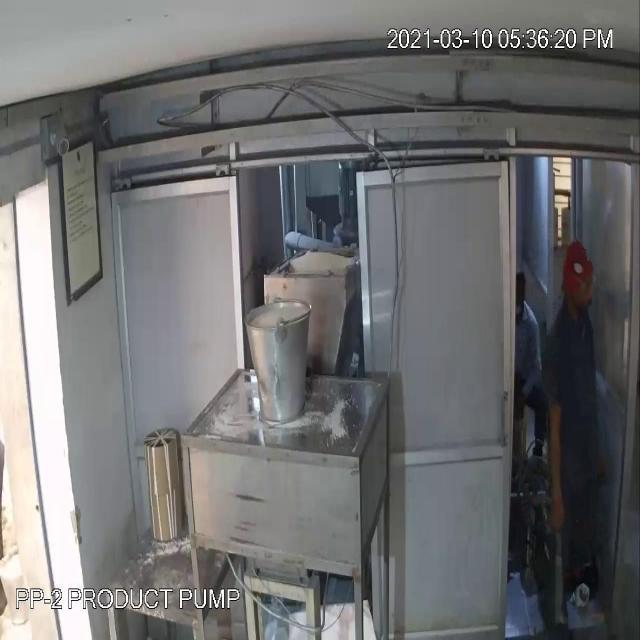No_Gloves: (540, 384, 574, 543)
